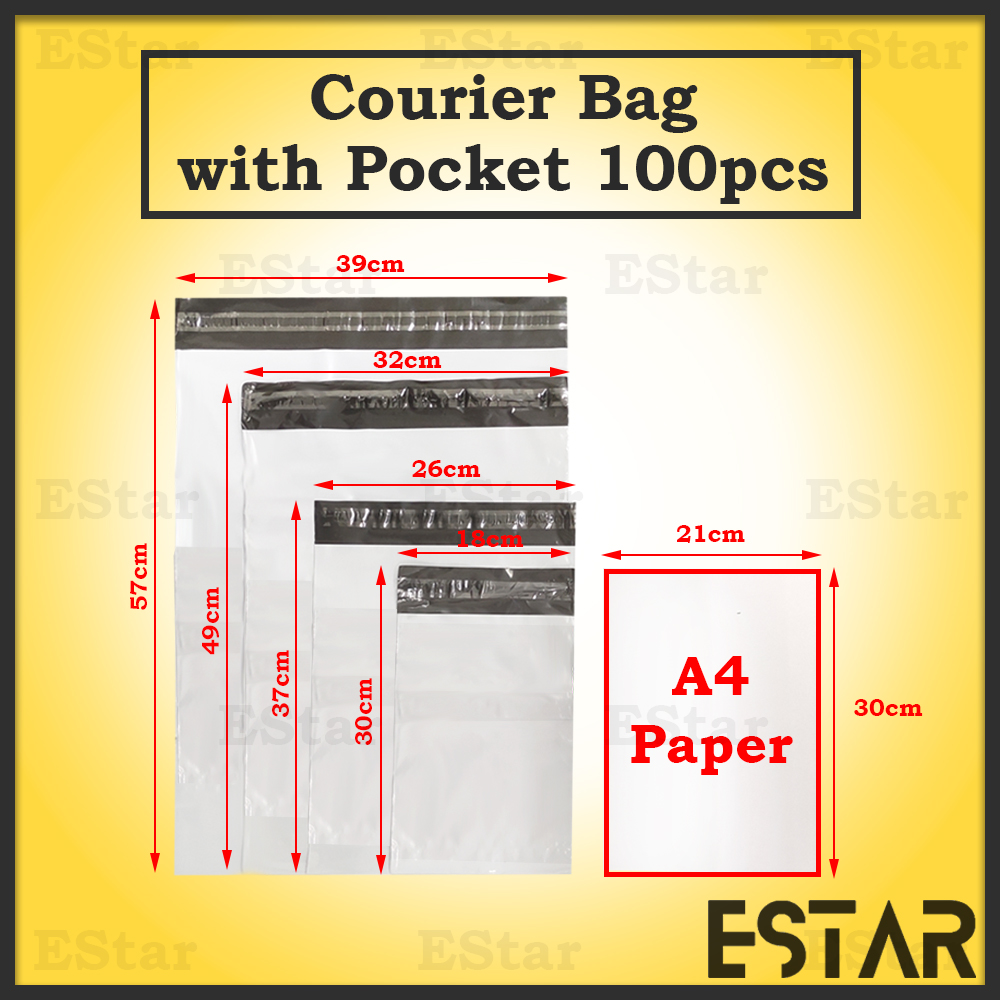塑料袋: (174, 294, 576, 874)
